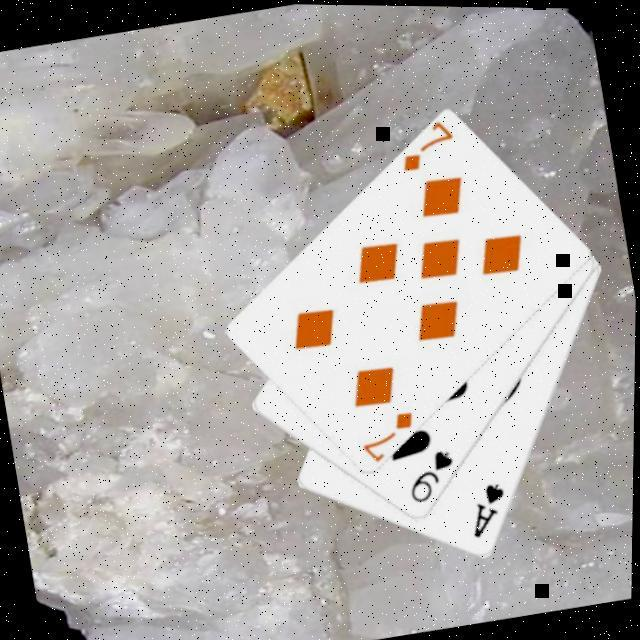7D: (354, 404, 425, 464), (394, 114, 463, 175)
9S: (401, 441, 465, 506)
AS: (463, 474, 516, 540)
